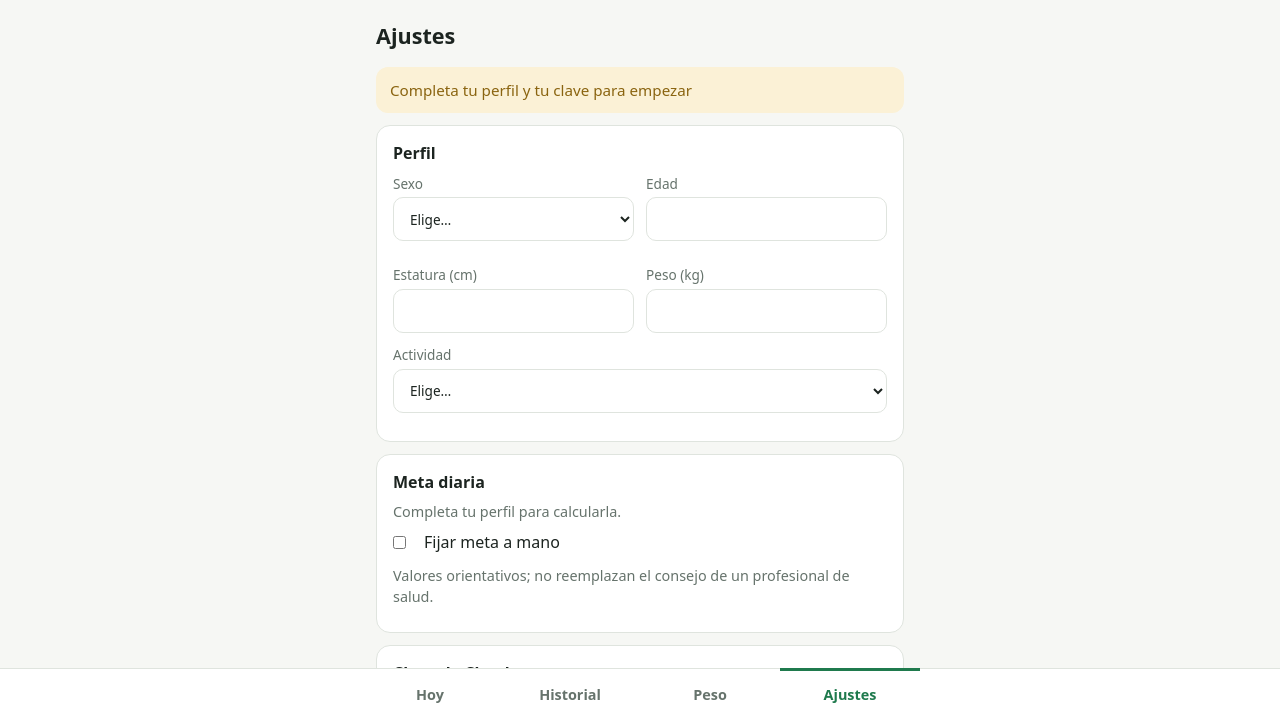
llenar el perfil muestra las metas calculadas y las guarda
The width and height of the screenshot is (1280, 720).
Select "Hombre" in the dropdown labelled "Sexo": (514, 219) left=393, top=197, right=634, bottom=241
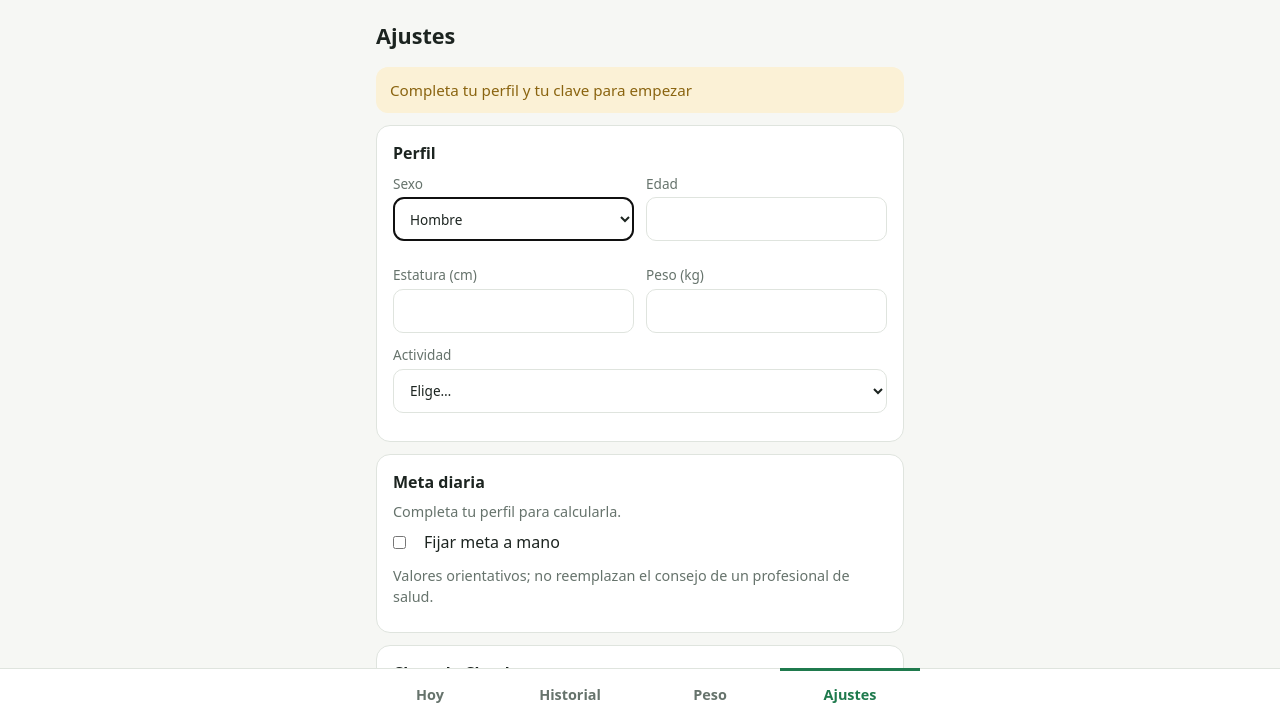
In the field labelled "Edad": (766, 219) left=646, top=197, right=887, bottom=241, type "30"
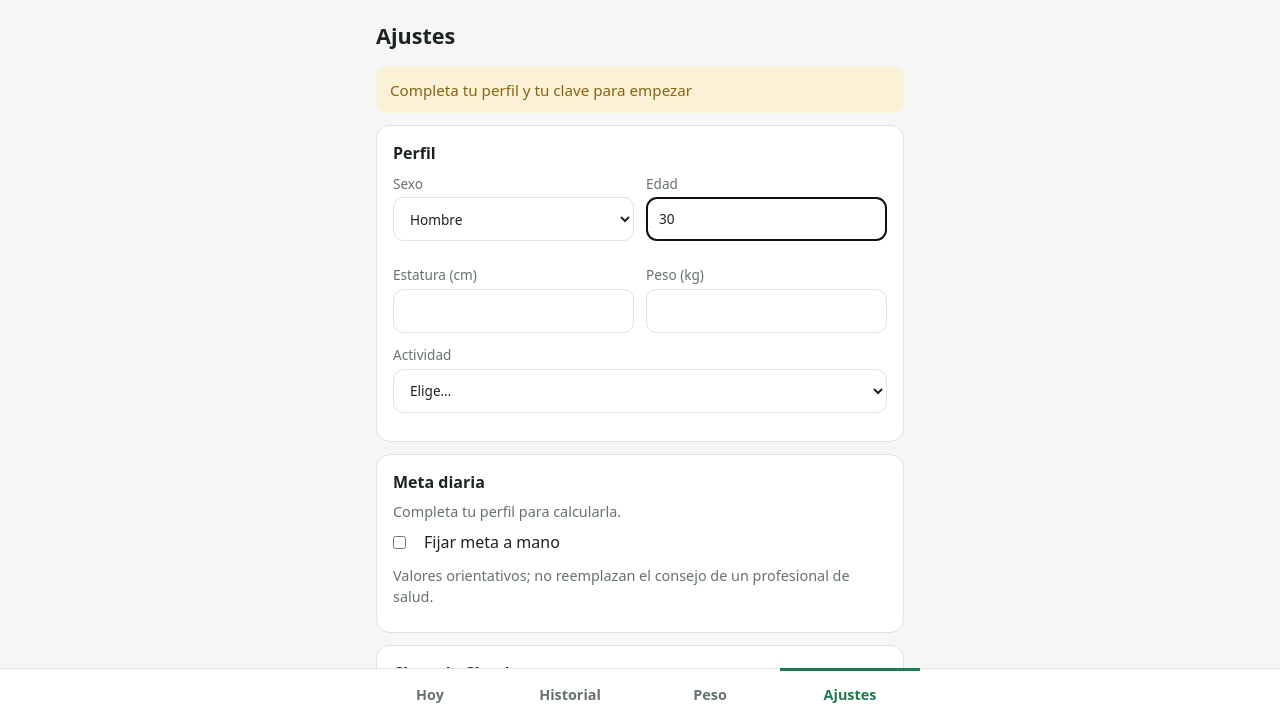
In the field labelled "Estatura (cm)": (514, 311) left=393, top=289, right=634, bottom=333, type "175"
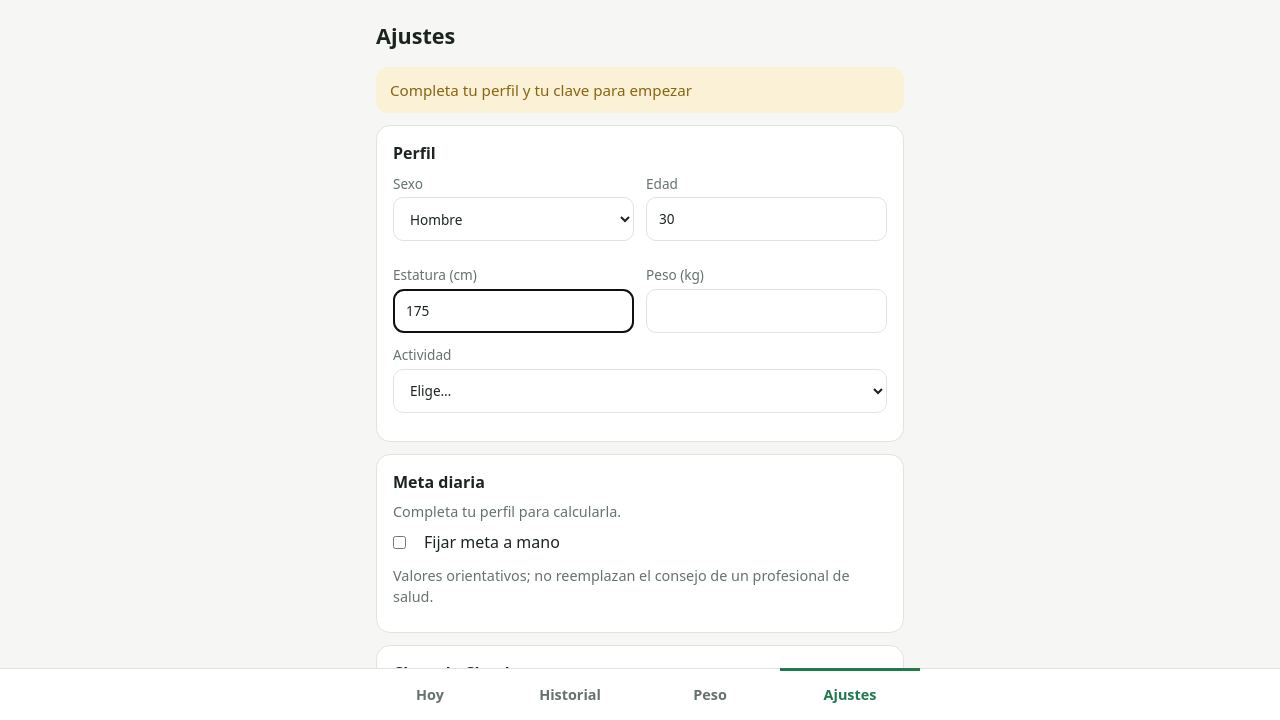
In the field labelled "Peso (kg)": (766, 311) left=646, top=289, right=887, bottom=333, type "80"
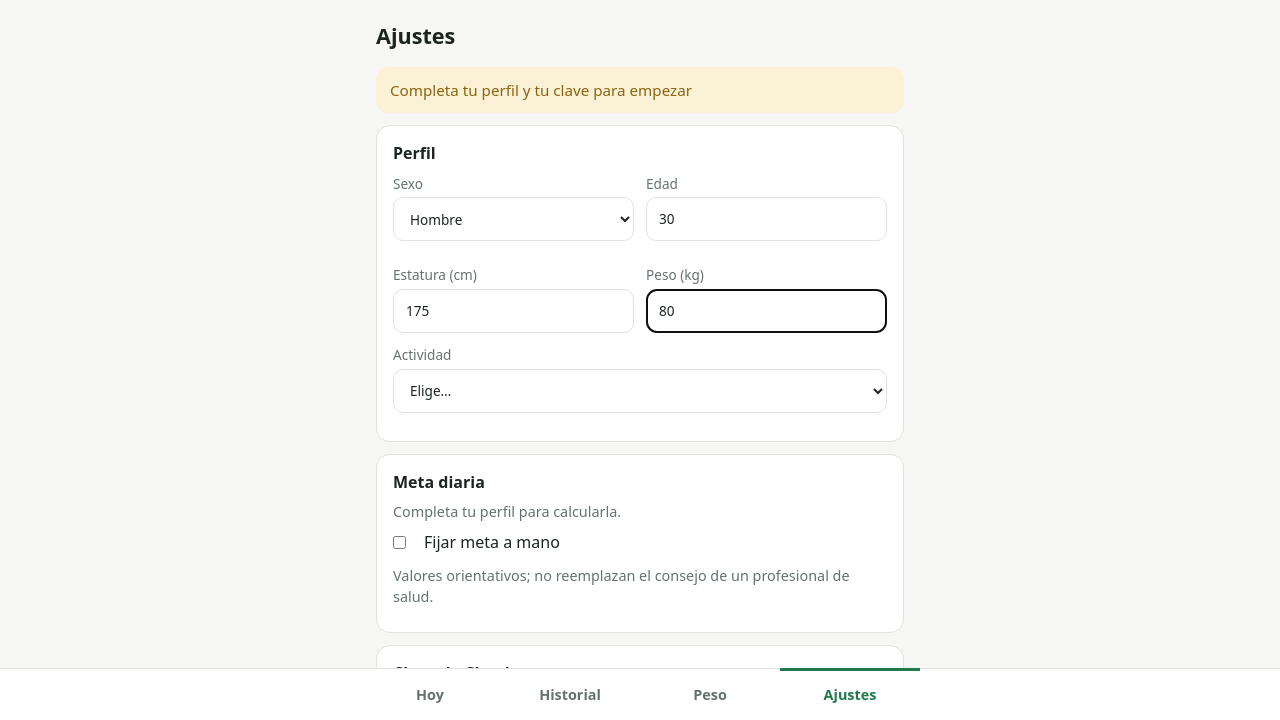
Select "Moderado: 3 a 5 días por semana" in the dropdown labelled "Actividad": (640, 391) left=393, top=369, right=887, bottom=413
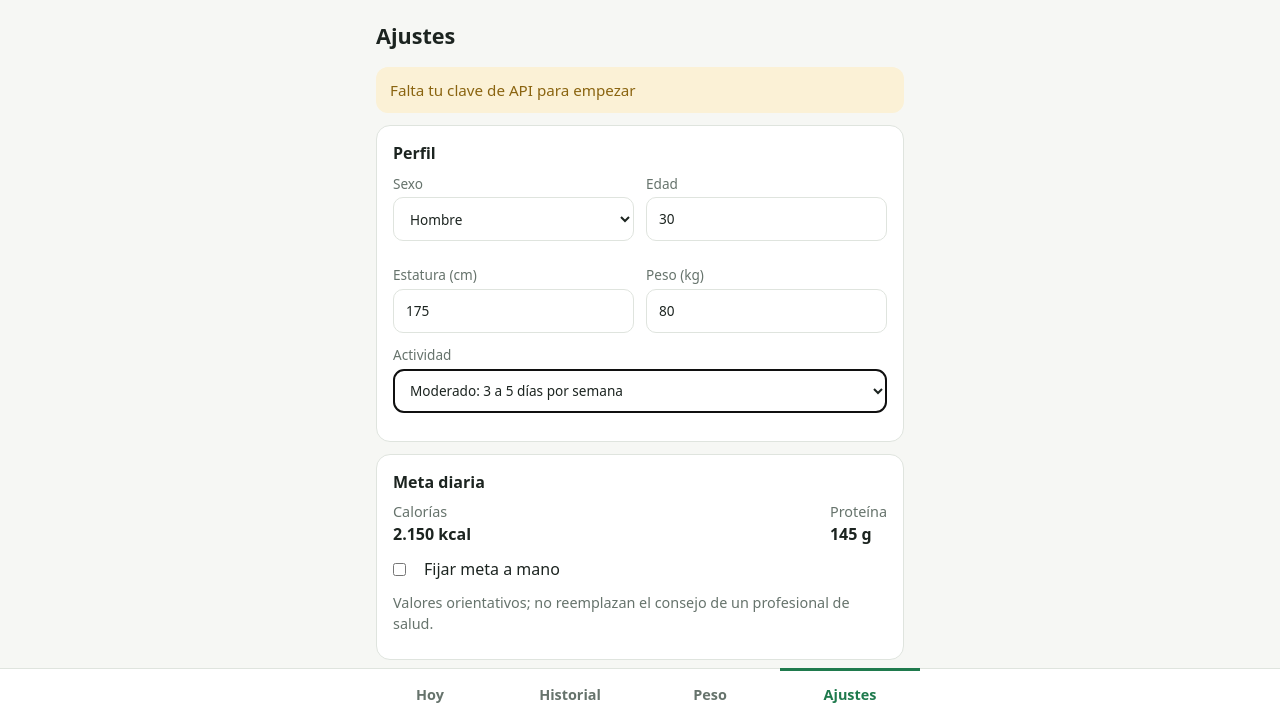
Expected: the text "2.150 kcal" is shown, left=393, top=523, right=471, bottom=545
Expected: the text "145 g" is shown, left=830, top=523, right=872, bottom=545
